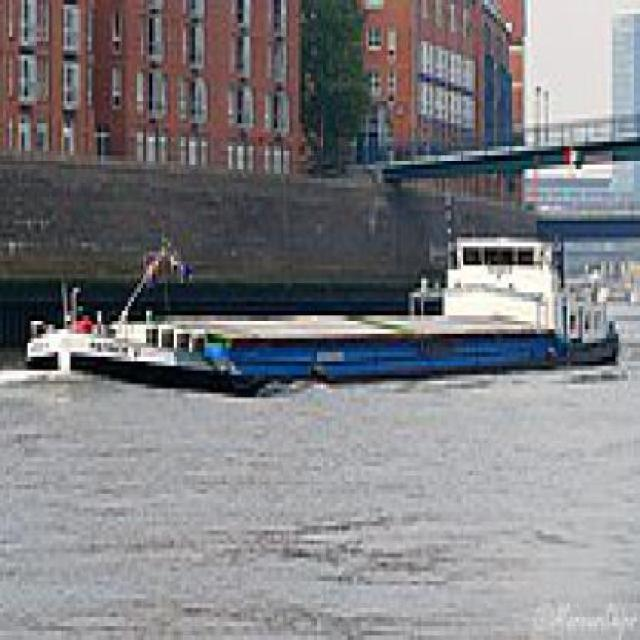container: (17, 220, 626, 408)
